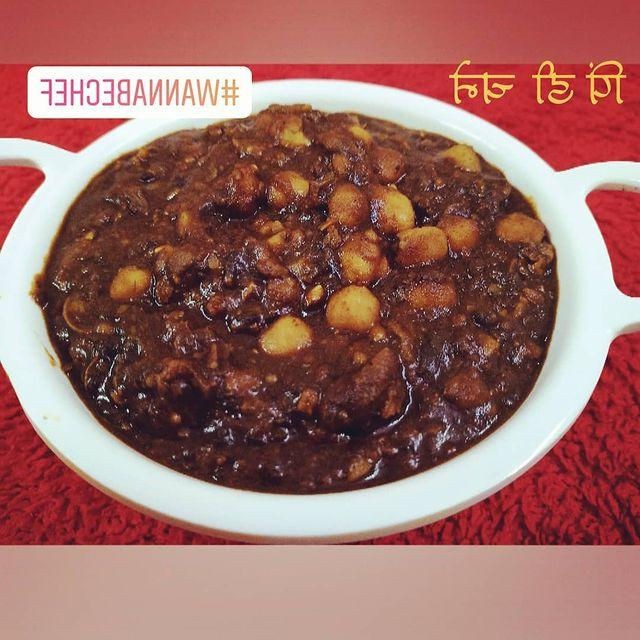Chole: (42, 128, 520, 370)
